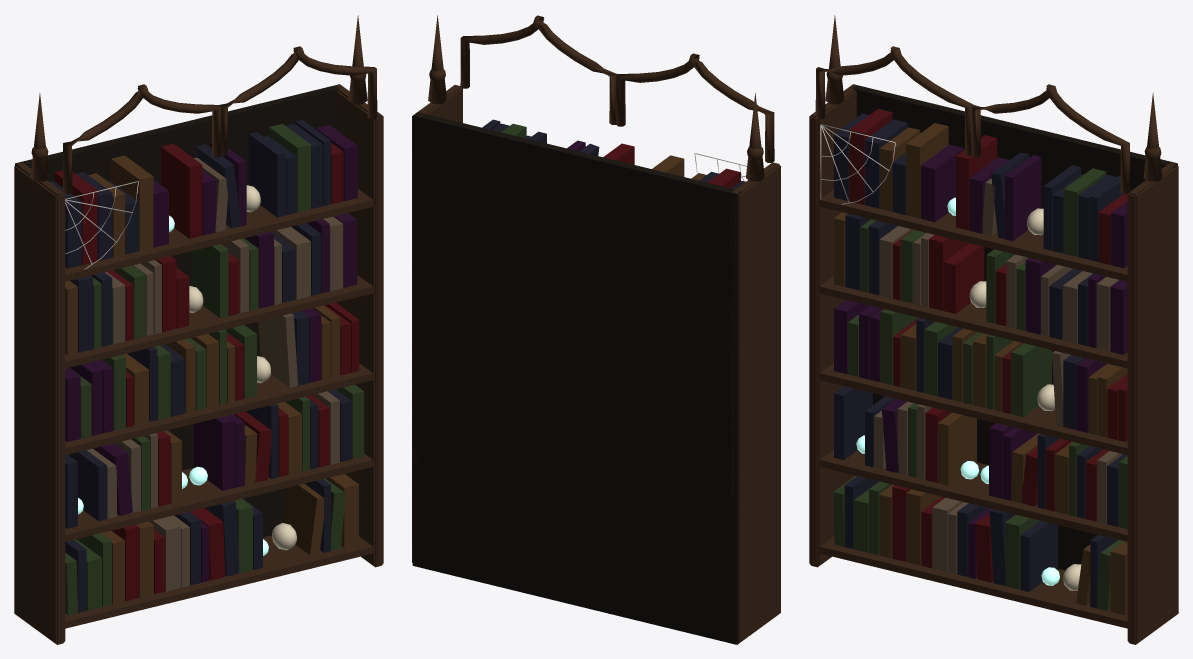
File: gothic-bookcase.glb
3 renders of one model, left to right at view 1: azimuth 30°, elevation 25°; view 2: azimuth 150°, elevation 25°; view 3: azimuth 330°, elevation 25°, orthographic.
Parts seen in each view (by area): view 1: Model Mesh; view 2: Model Mesh; view 3: Model Mesh.
Part boxes in pixels (box(x1,y1,x2,y2)): Model Mesh: box(14, 15, 383, 644); Model Mesh: box(412, 15, 780, 644); Model Mesh: box(809, 15, 1178, 644).
Size of the model in its own units: 2.01 by 3.11 by 0.47.
